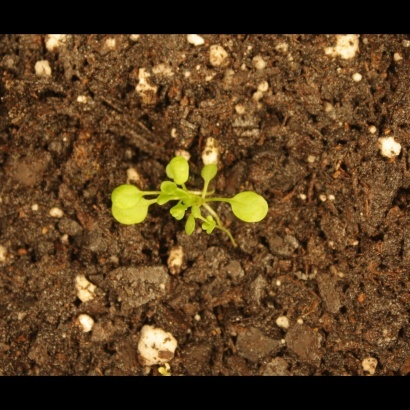leaf: (110, 195, 155, 228), (230, 190, 271, 226), (108, 182, 148, 210), (163, 155, 197, 185), (195, 156, 228, 186), (178, 216, 201, 239), (199, 217, 222, 240), (161, 177, 184, 200), (169, 201, 192, 224), (186, 197, 209, 220)
